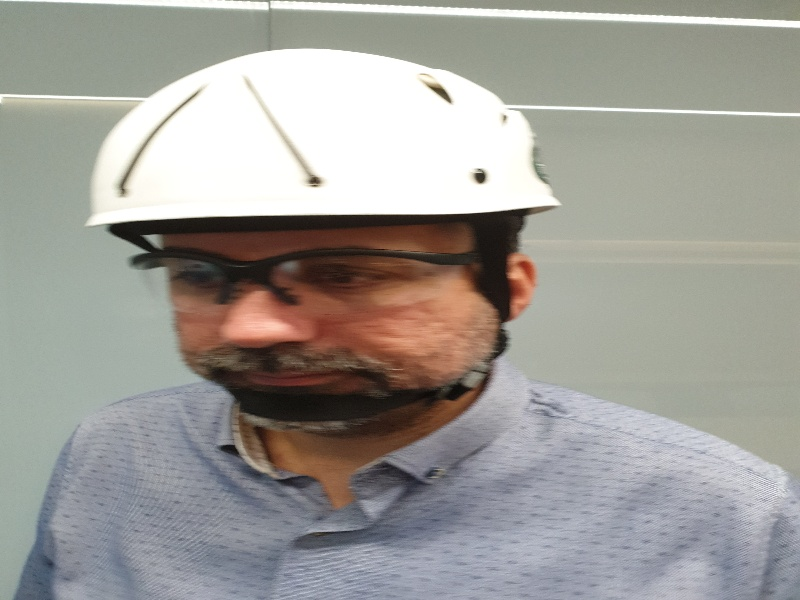Baret: (87, 49, 565, 227)
Gozluk: (126, 245, 499, 319)
